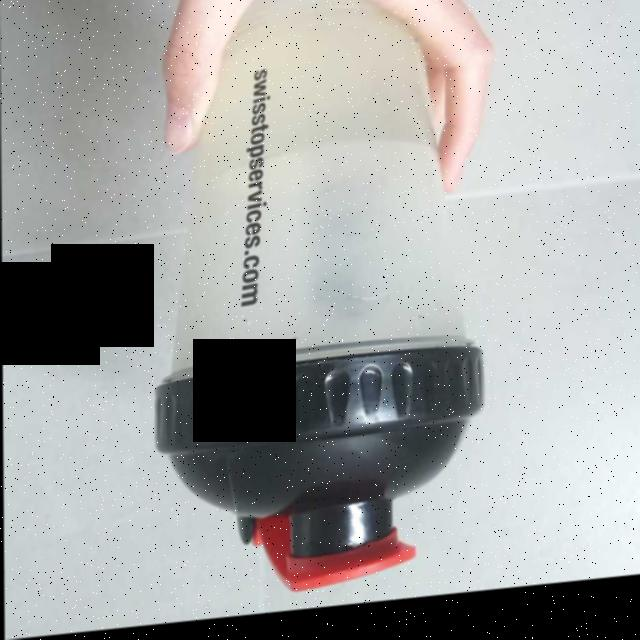glucose-drink-50g: (177, 0, 443, 192), (188, 0, 424, 172)
